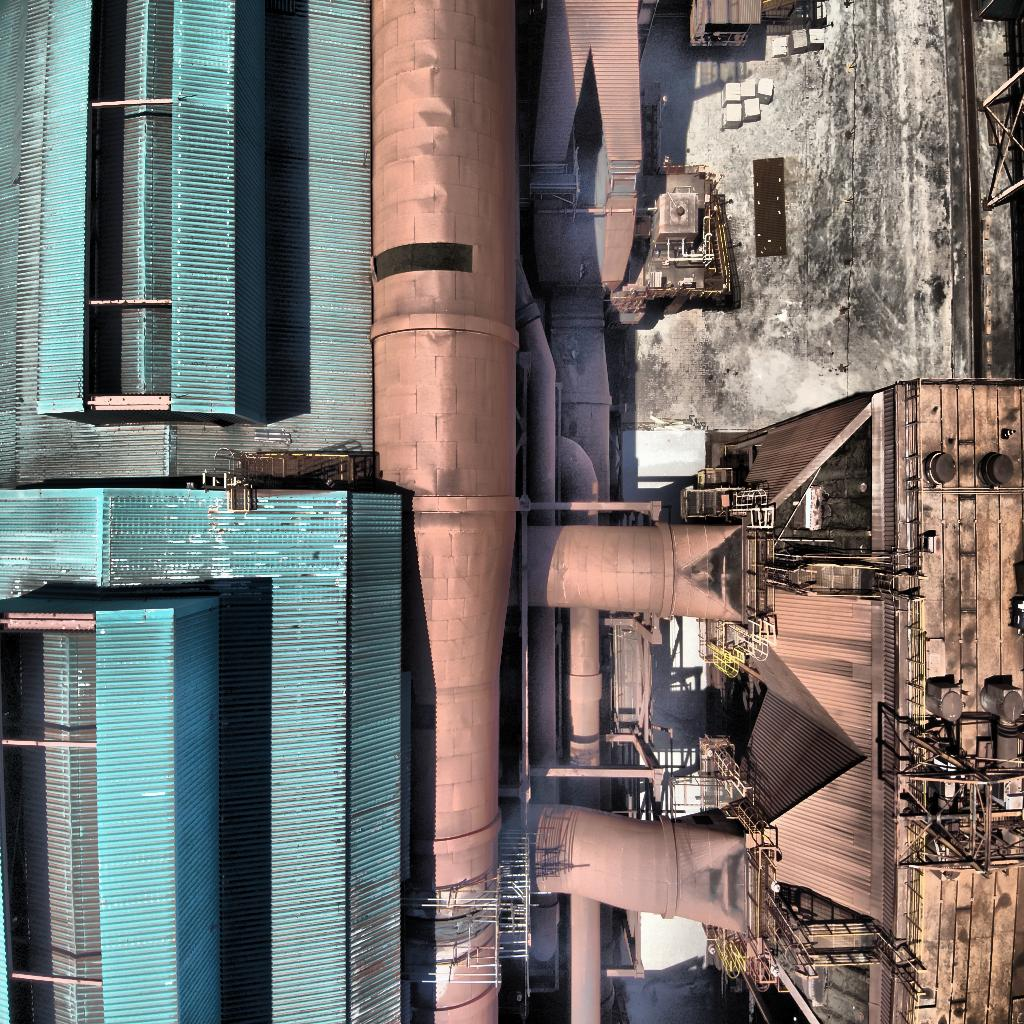Failures: (765, 409, 881, 560), (776, 935, 880, 1021), (365, 240, 479, 280)
